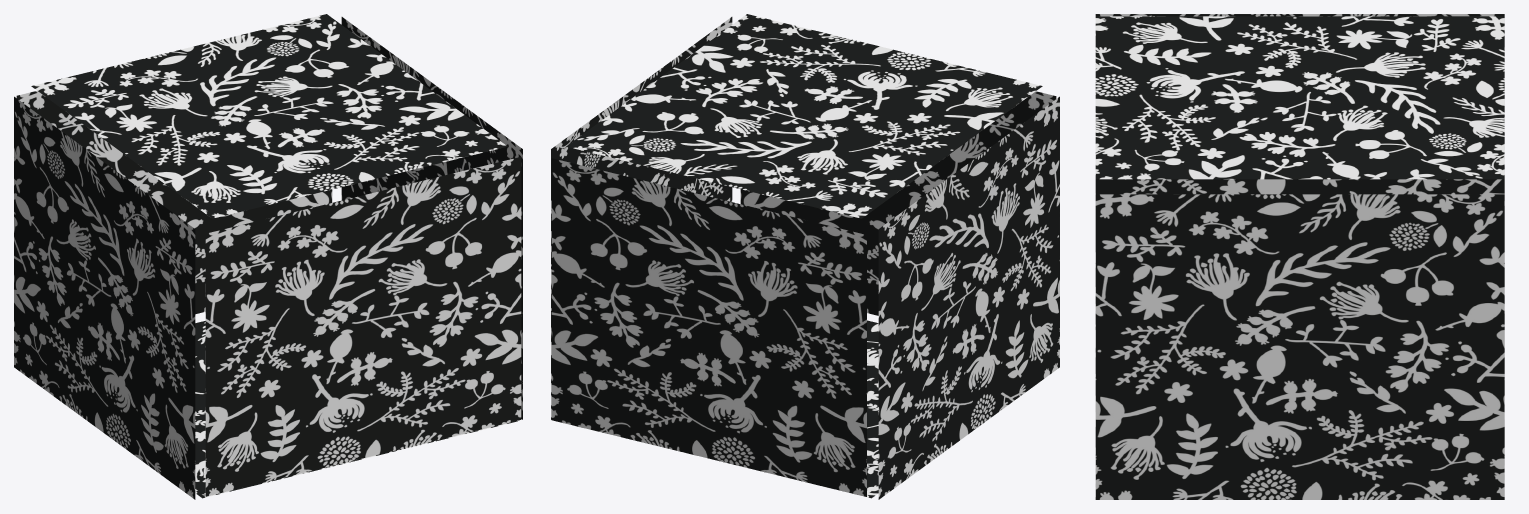
Rendered from pattern9-9x9x5.gltf.
3 renders of one model, left to right at view 1: azimuth 30°, elevation 25°; view 2: azimuth 150°, elevation 25°; view 3: azimuth 270°, elevation 25°, orthographic. The views are drawn at different scales.
Visible parts, largest first — view 1: Cube.005; view 2: Cube.005; view 3: Cube.005.
Boxes of the visible parts, x1=… form: Cube.005: x1=14, y1=14, x2=522, y2=499; Cube.005: x1=551, y1=14, x2=1059, y2=499; Cube.005: x1=1095, y1=14, x2=1504, y2=499.
Bounding box in the file's own units: 3 × 2.43 × 3.
Materials: 1 (1 with a texture image).
